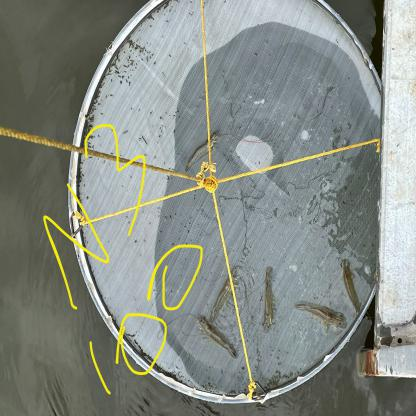shrimp: (198, 314, 238, 360), (184, 128, 220, 173), (209, 268, 236, 323), (292, 303, 347, 328), (340, 258, 360, 312), (264, 268, 272, 332)
